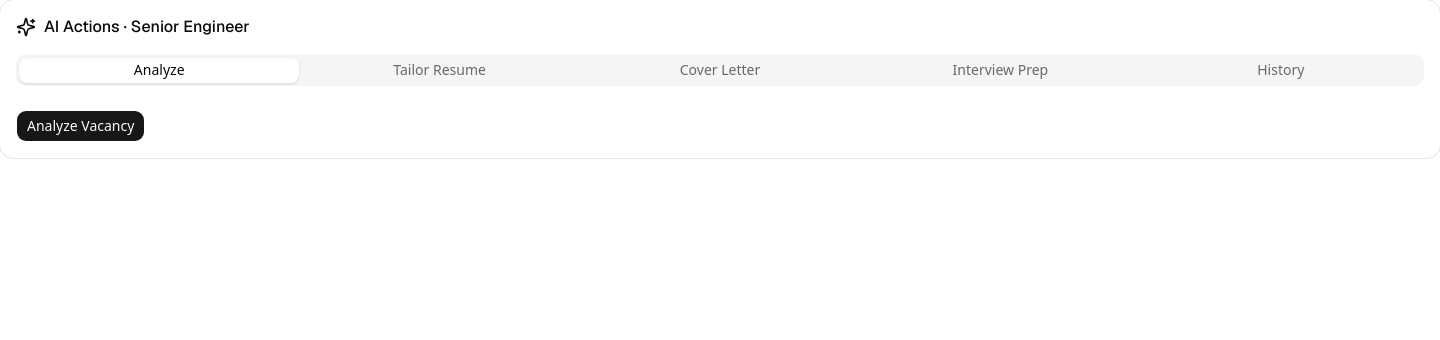
Test: AiActionsPanel › generates a tailored resume for an application and renders the result (ADR-031 async pipeline)
The width and height of the screenshot is (1440, 340).
What coordinates should you click on to do the following:
click the tab "Tailor Resume"
I would click on:
 (440, 70)
Its box is left=299, top=58, right=580, bottom=82.
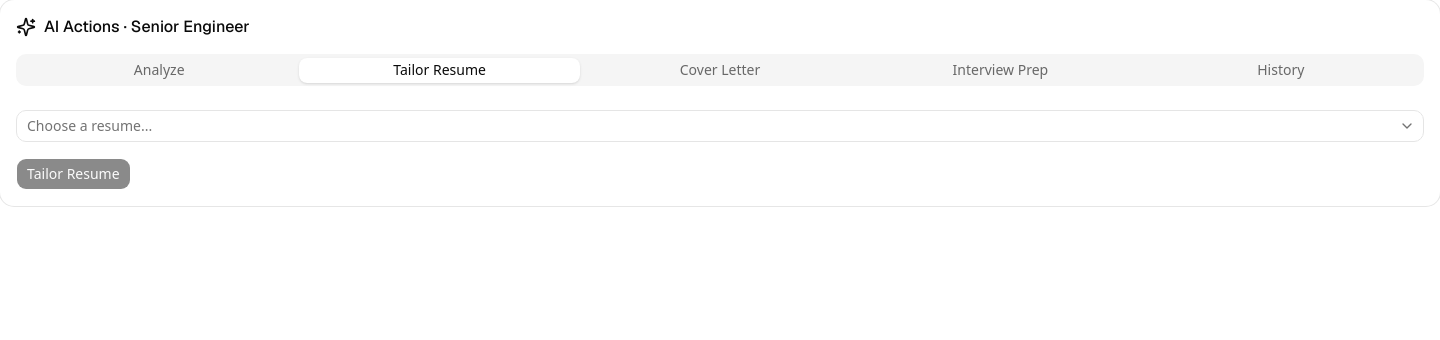
Now the number of dropdowns is 1
What coordinates should you click on to do the following:
click the dropdown
I would click on:
 (90, 126)
Its box is left=16, top=110, right=1424, bottom=142.
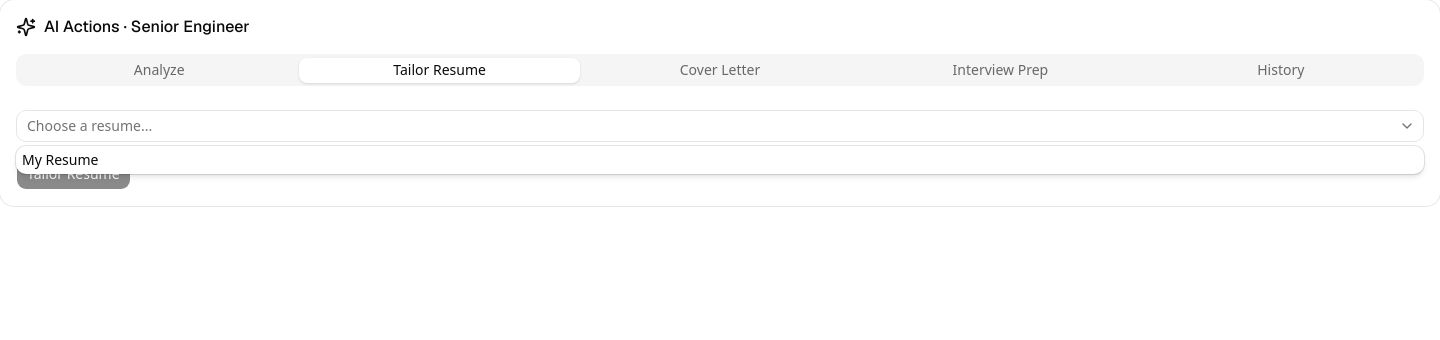
What coordinates should you click on to do the following:
click the option "My Resume"
I would click on:
 (60, 160)
Its box is left=22, top=150, right=98, bottom=169.
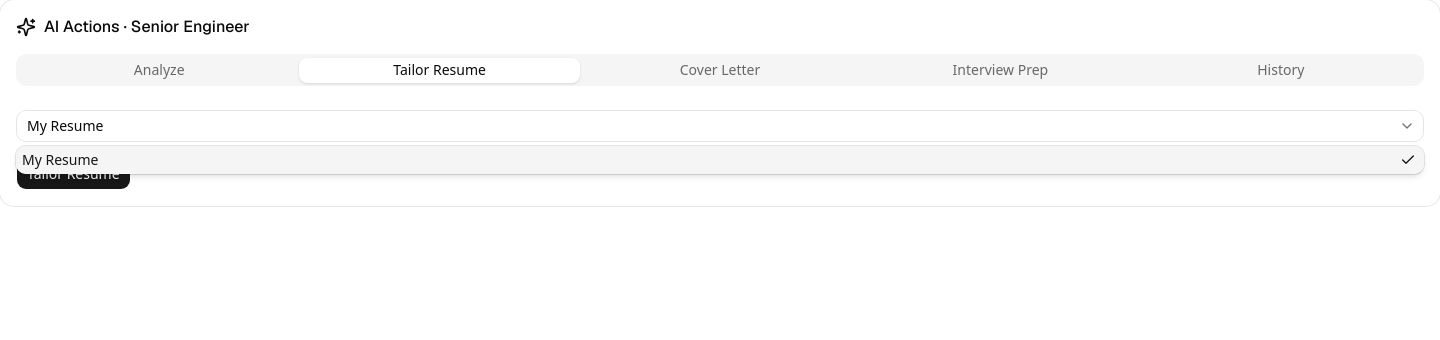
What coordinates should you click on to do the following:
click the button "Tailor Resume"
I would click on:
 (73, 174)
Its box is left=16, top=158, right=131, bottom=190.
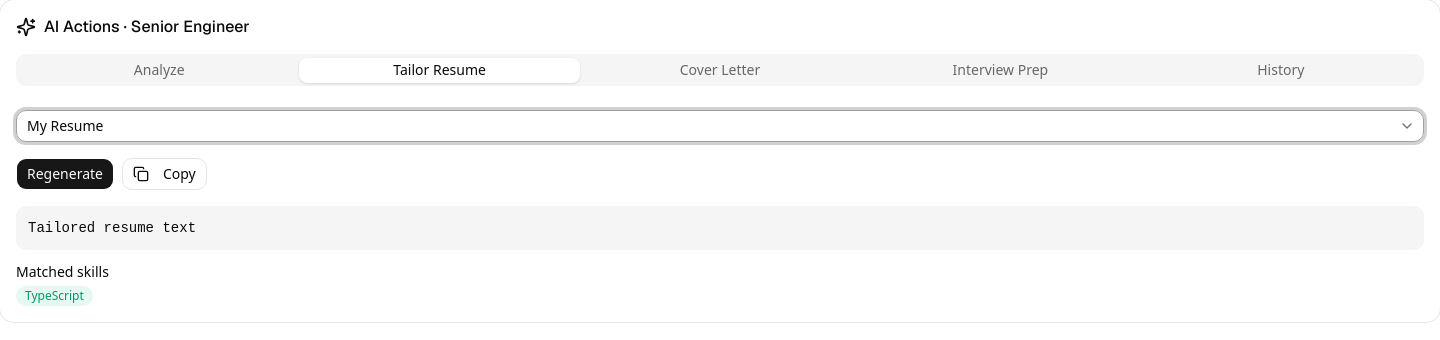
Now the text "Tailored resume text" is shown, box left=16, top=206, right=1424, bottom=250
Now the text "TypeScript" is shown, box left=16, top=286, right=93, bottom=306
